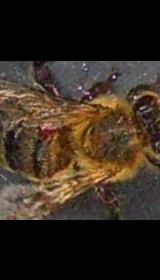varroa_mite: (26, 118, 66, 144)
